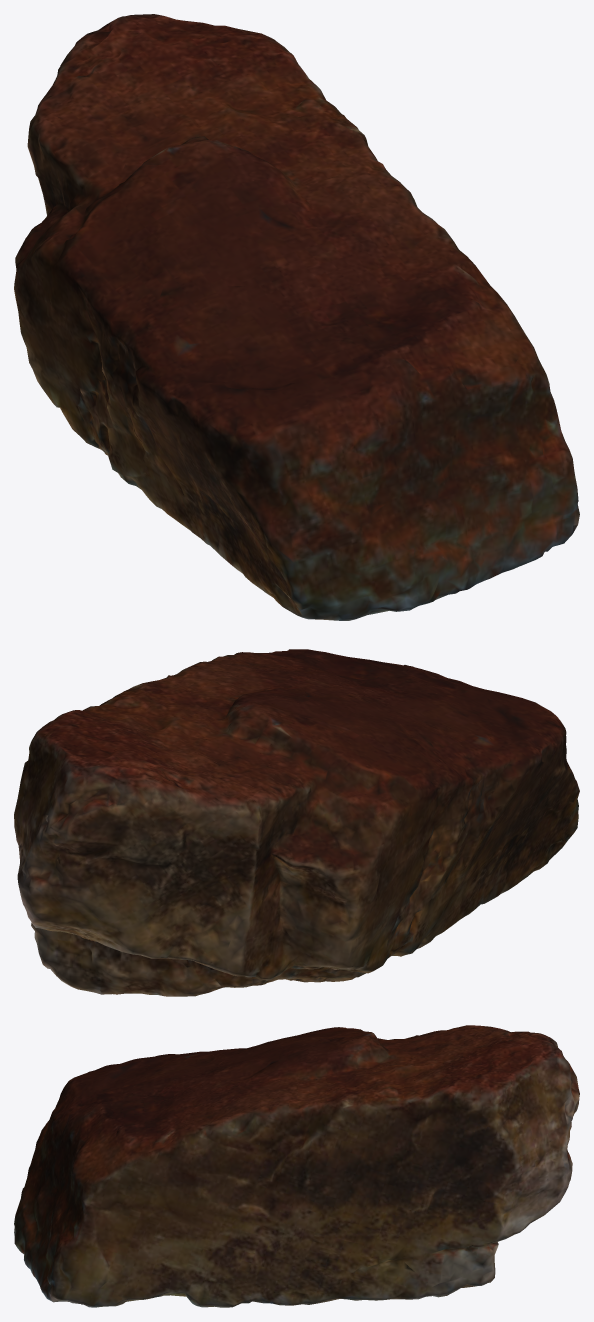
Rendered from flux.glb.
3 views of the same model, one above another, from view 1: azimuth 30°, elevation 25°; view 2: azimuth 150°, elevation 25°; view 3: azimuth 270°, elevation 25° (orthographic). The views are drawn at different scales.
Visible parts, largest first — view 1: rock_07; view 2: rock_07; view 3: rock_07.
Part boxes in pixels (x1,y1,x2,y2): rock_07: (14, 14, 579, 620); rock_07: (14, 649, 579, 996); rock_07: (14, 1025, 579, 1307).
Size of the model in its own units: 0.1689 by 0.1437 by 0.3203.
Materials: 1 (1 with a texture image).
